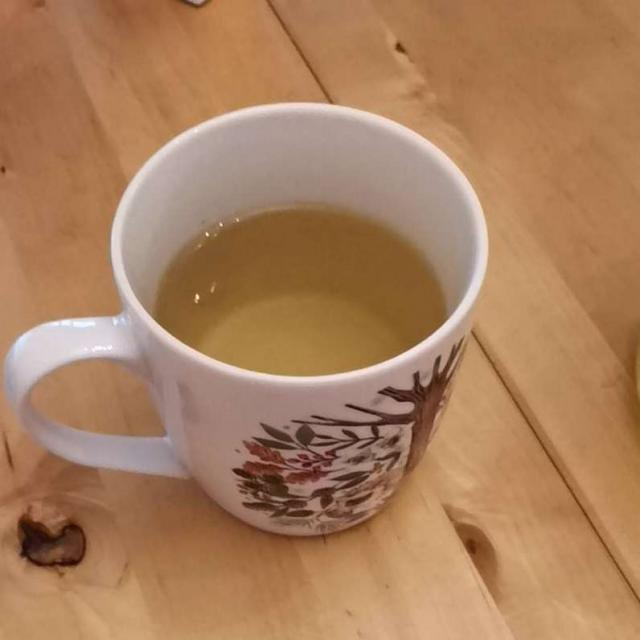tea: (153, 204, 443, 373)
